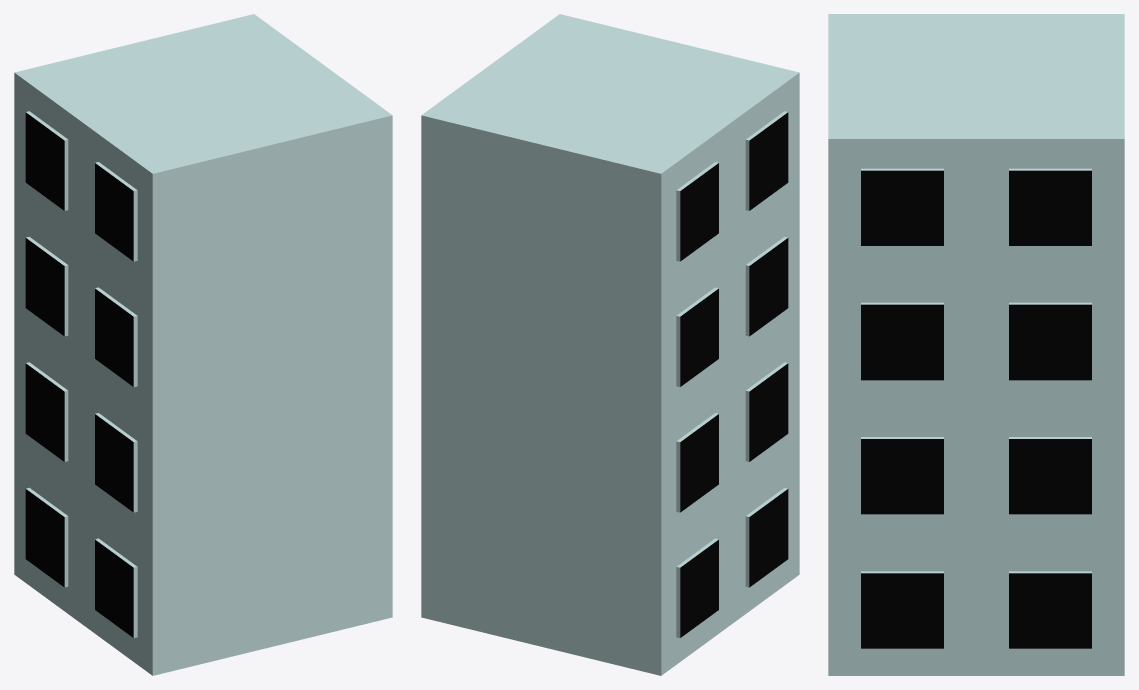
The model's file is building2.glb.
3 views of the same model, side by side, from view 1: azimuth 30°, elevation 25°; view 2: azimuth 150°, elevation 25°; view 3: azimuth 270°, elevation 25° (orthographic). The views are drawn at different scales.
Parts seen in each view (by area): view 1: Cube; view 2: Cube; view 3: Cube.
Boxes of the visible parts, x1,y1,x2,y2 form: Cube: (14,14,392,675); Cube: (421,14,799,675); Cube: (828,14,1124,675).
Bounding box in the file's own units: 2.06 × 4 × 2.
